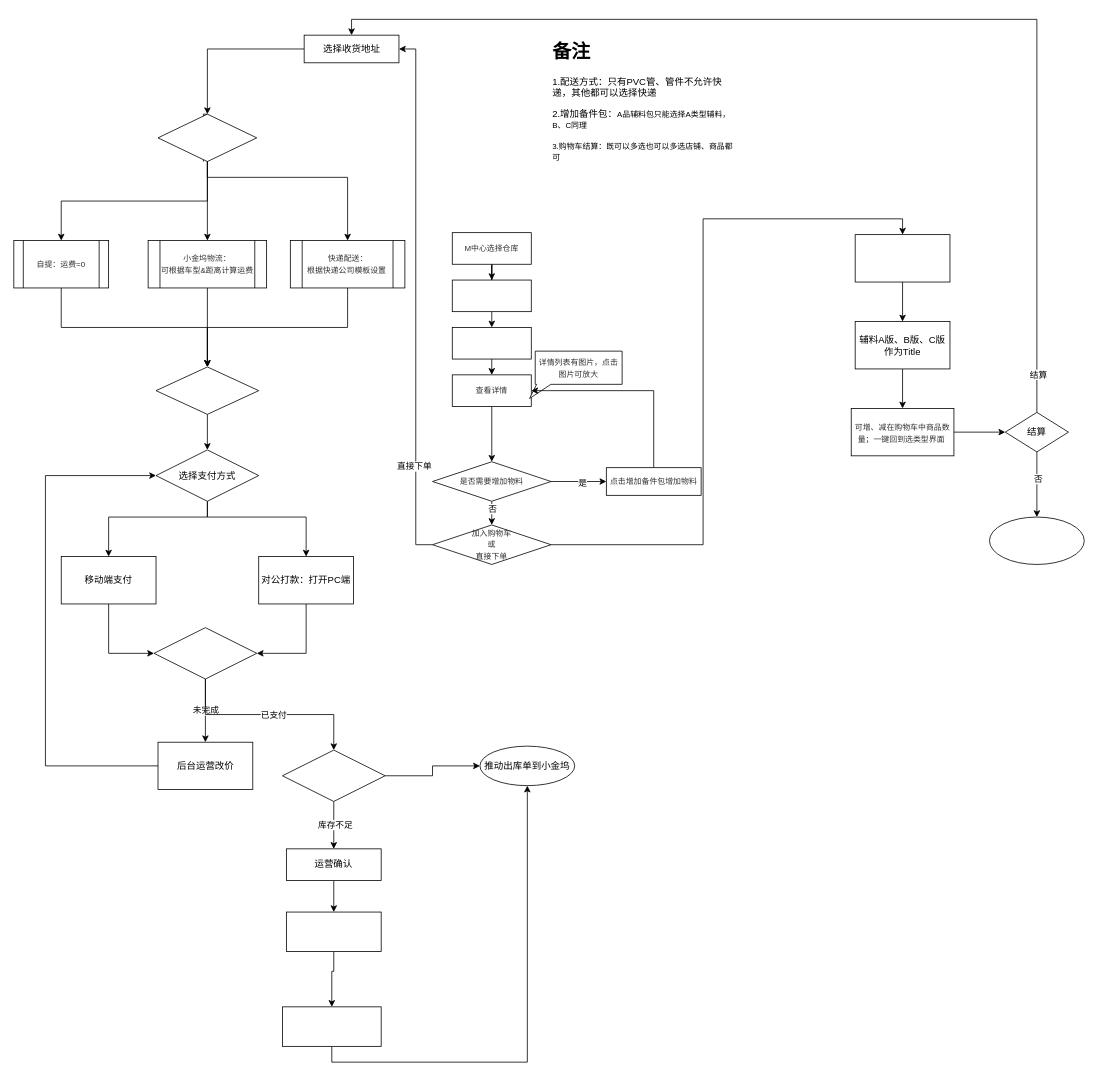
Some shapes in this 1098 by 1082 pixel diagram are drawn without their labels. Each missing label, with the box of its shape:
库存是否充足: (282, 749, 385, 801)
是否支付完成: (153, 627, 257, 679)
返回继续浏览: (989, 516, 1084, 564)
进入辅料成套: (451, 279, 531, 312)
选择优惠券: (155, 366, 259, 414)
选择辅料A|B|C 版: (451, 327, 531, 359)
选择配送方式: (157, 113, 257, 162)
通过M中心上方按钮进入购物车界面: (854, 234, 950, 282)
采购入库成功后点确认（光小宝）: (282, 1006, 381, 1046)
（小金坞系统）采购做入库单: (286, 911, 381, 952)
